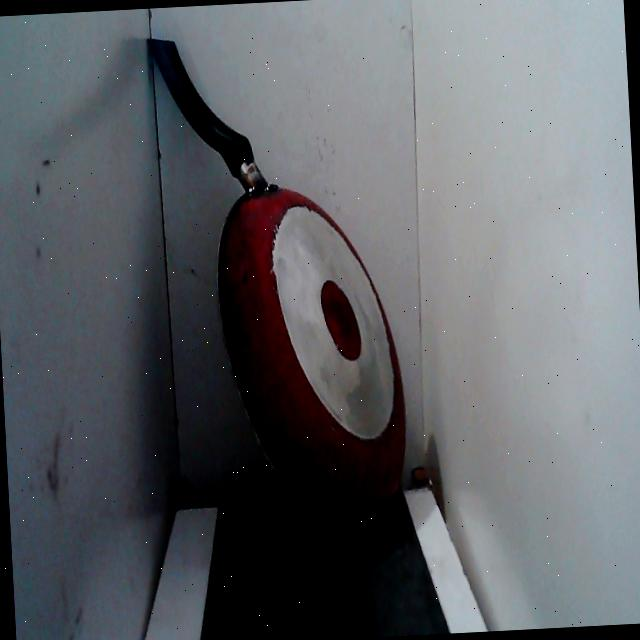metal: (142, 18, 426, 572)
